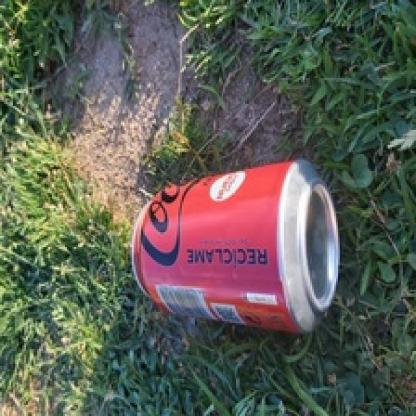Can: (132, 161, 340, 335)
